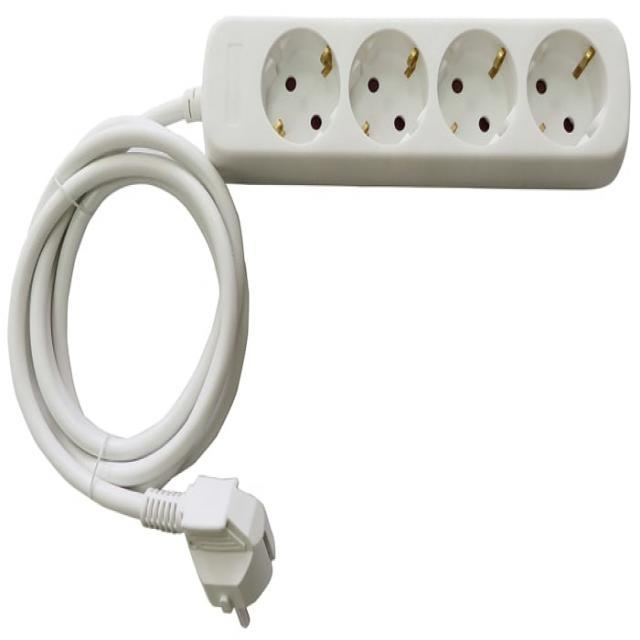typeb: (150, 0, 632, 241)
